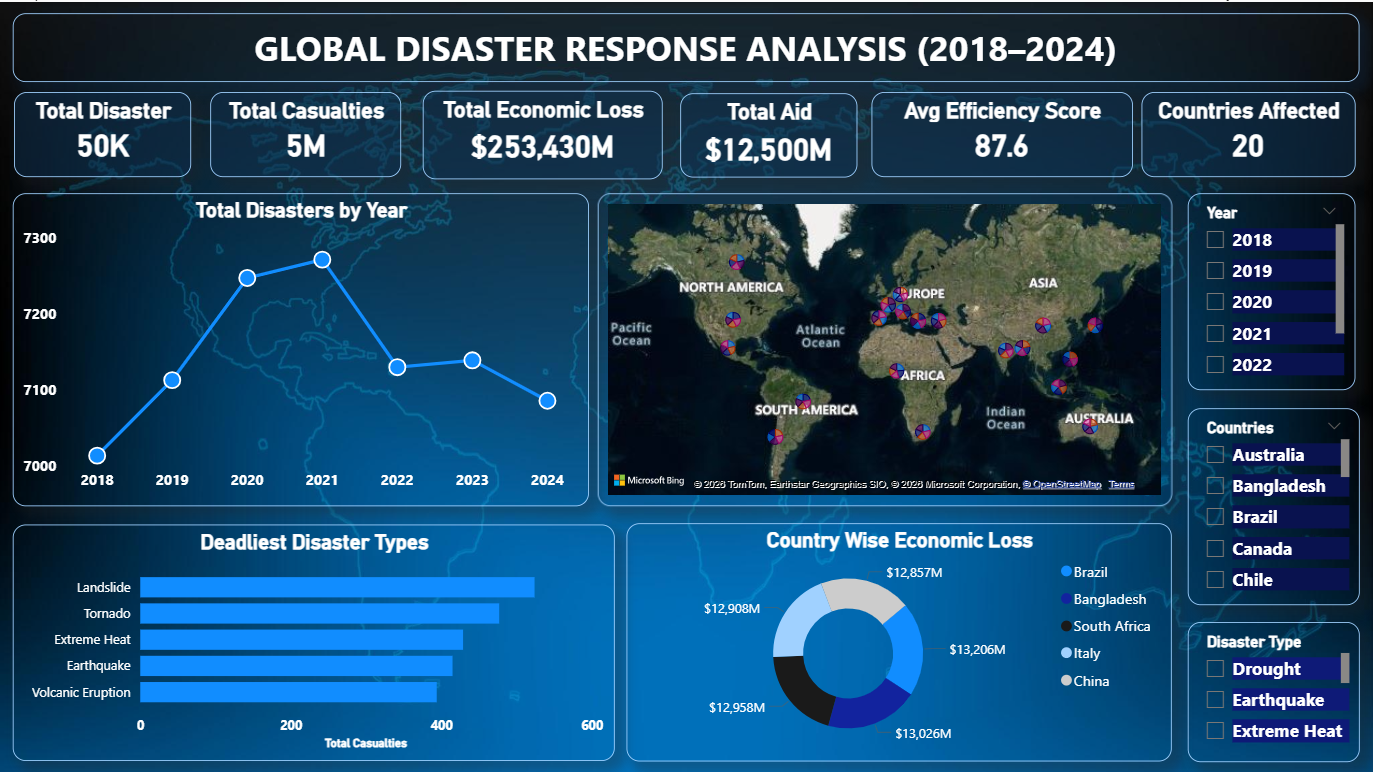

This screenshot's page, from the dashboard's own definition file:
{"tool":"powerbi","page":{"name":"Page 1","canvas":[1280,720],"ordinal":0},"visuals":[{"type":"textbox","box":[12.9,10,1252.9,64.3],"z":0,"group":"g1"},{"type":"card","title":"Total  Disaster","fields":{"Values":["global_disaster_response_2018_2024 (1).Total Disasters"]},"box":[14,83.7,165.1,79.1],"z":1000,"group":"g1"},{"type":"card","title":"Total Casualties","fields":{"Values":["global_disaster_response_2018_2024 (1).Total Casualties"]},"box":[196.6,83.7,177.9,79.1],"z":2000,"group":"g1"},{"type":"card","title":"Total Economic Loss","fields":{"Values":["Sum(global_disaster_response_2018_2024 (1).economic_loss_usd)"]},"box":[394.2,83.7,223.3,79.1],"z":3000,"group":"g1"},{"type":"card","title":"Total Aid","fields":{"Values":["Sum(global_disaster_response_2018_2024 (1).aid_amount_usd)"]},"box":[634,83.9,165.1,78.5],"z":4000,"group":"g1"},{"type":"card","title":"Avg Efficiency Score","fields":{"Values":["global_disaster_response_2018_2024 (1).Avg Efficiency"]},"box":[811.7,83.7,243,79.1],"z":5000,"group":"g1"},{"type":"card","title":"Countries Affected","fields":{"Values":["Count(global_disaster_response_2018_2024 (1).country)"]},"box":[1062.8,83.7,198.8,79.1],"z":6000,"group":"g1"},{"type":"lineChart","fields":{"Category":["global_disaster_response_2018_2024 (1).date.Variation.Date Hierarchy.Year","global_disaster_response_2018_2024 (1).date.Variation.Date Hierarchy.Quarter","global_disaster_response_2018_2024 (1).date.Variation.Date Hierarchy.Month","global_disaster_response_2018_2024 (1).date.Variation.Date Hierarchy.Day"],"Y":["global_disaster_response_2018_2024 (1).Total Disasters"]},"box":[12.9,177.1,535.7,291.4],"z":7000,"group":"g1"},{"type":"map","fields":{"Series":["global_disaster_response_2018_2024 (1).disaster_type"],"Size":["Sum(global_disaster_response_2018_2024 (1).economic_loss_usd)"],"Category":["global_disaster_response_2018_2024 (1).Countries Affected"]},"box":[557.2,177.1,534.3,291.4],"z":8000,"group":"g1"},{"type":"barChart","title":"Deadliest Disaster Types","fields":{"Category":["global_disaster_response_2018_2024 (1).disaster_type"],"Y":["Max(global_disaster_response_2018_2024 (1).casualties)"]},"box":[12.9,485.7,560,220],"z":9000,"group":"g1"},{"type":"donutChart","title":"Country Wise Economic Loss","fields":{"Category":["global_disaster_response_2018_2024 (1).Countries Affected"],"Y":["Sum(global_disaster_response_2018_2024 (1).economic_loss_usd)"]},"box":[584.3,484.3,507.1,221.4],"z":10000,"group":"g1"},{"type":"slicer","title":"Year","fields":{"Values":["global_disaster_response_2018_2024 (1).Year"]},"box":[1105.8,177.1,155.7,182.9],"z":11000,"group":"g1"},{"type":"slicer","fields":{"Values":["global_disaster_response_2018_2024 (1).Countries Affected"]},"box":[1105.8,377.1,160,182.9],"z":12000,"group":"g1"},{"type":"slicer","fields":{"Values":["global_disaster_response_2018_2024 (1).disaster_type"]},"box":[1105.8,575.7,160,130],"z":13000,"group":"g1"},{"type":"group","id":"g1","title":"Group 1","box":[12.9,10,1252.9,695.7],"z":13001}]}

Visuals, with their boxes in screenshot pixels (x1, y1, x2, y2), scaled from the page's 1280x720 canvas onto the 1373x772 screenshot:
textbox: box=[14, 11, 1358, 80]
"Total  Disaster" card: box=[15, 90, 192, 175]
"Total Casualties" card: box=[211, 90, 402, 175]
"Total Economic Loss" card: box=[423, 90, 662, 175]
"Total Aid" card: box=[680, 90, 857, 174]
"Avg Efficiency Score" card: box=[871, 90, 1131, 175]
"Countries Affected" card: box=[1140, 90, 1353, 175]
lineChart - global_disaster_response_2018_2024 (1).date.Variation.Date Hierarchy.Year x global_disaster_response_2018_2024 (1).date.Variation.Date Hierarchy.Quarter: box=[14, 190, 588, 502]
map - global_disaster_response_2018_2024 (1).disaster_type x Sum(global_disaster_response_2018_2024 (1).economic_loss_usd): box=[598, 190, 1171, 502]
"Deadliest Disaster Types" barChart: box=[14, 521, 615, 757]
"Country Wise Economic Loss" donutChart: box=[627, 519, 1171, 757]
"Year" slicer: box=[1186, 190, 1353, 386]
slicer - global_disaster_response_2018_2024 (1).Countries Affected: box=[1186, 404, 1358, 600]
slicer - global_disaster_response_2018_2024 (1).disaster_type: box=[1186, 617, 1358, 757]
"Group 1" group: box=[14, 11, 1358, 757]
